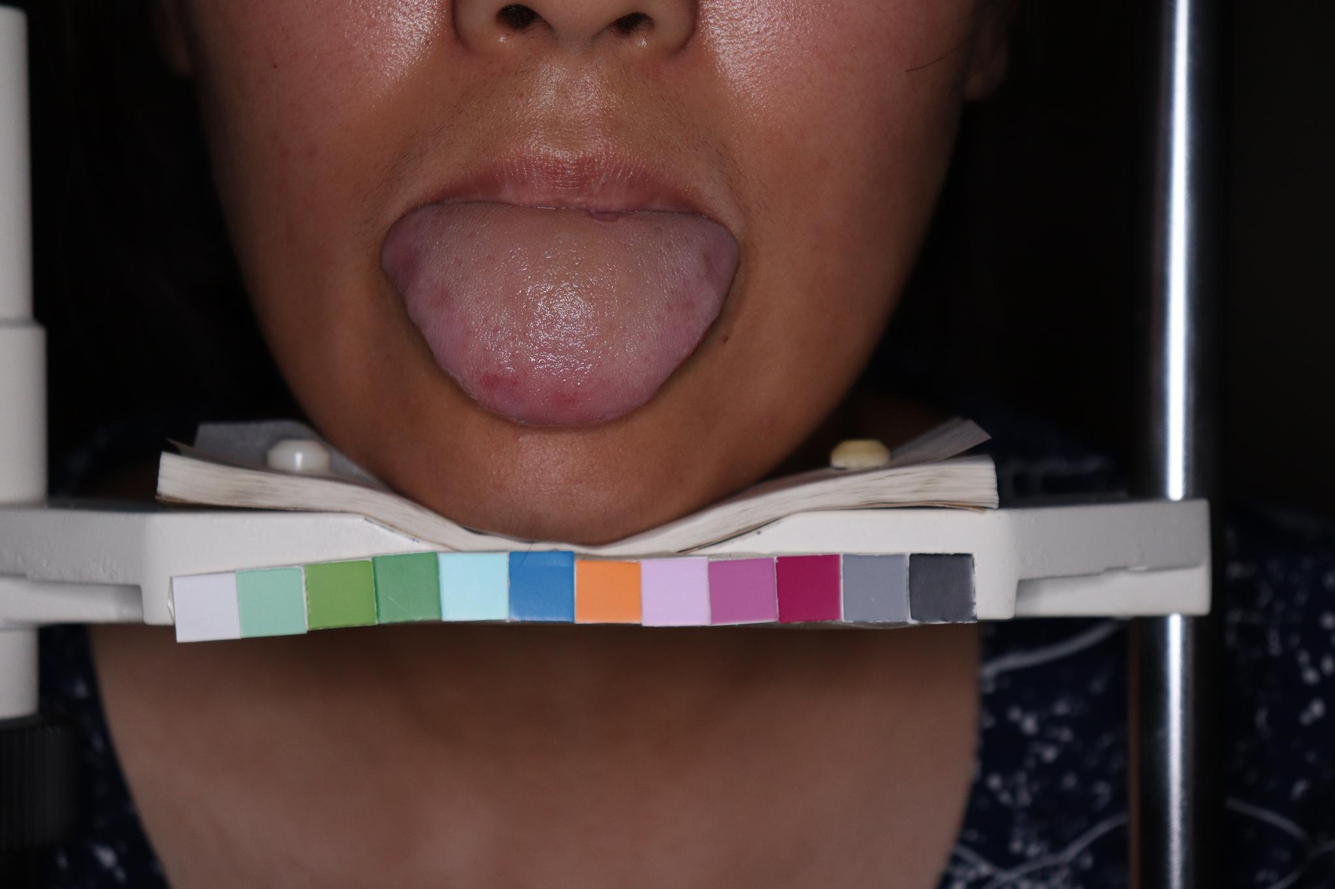hongshe: (380, 201, 738, 428)
huangtaishe: (381, 201, 739, 428)
